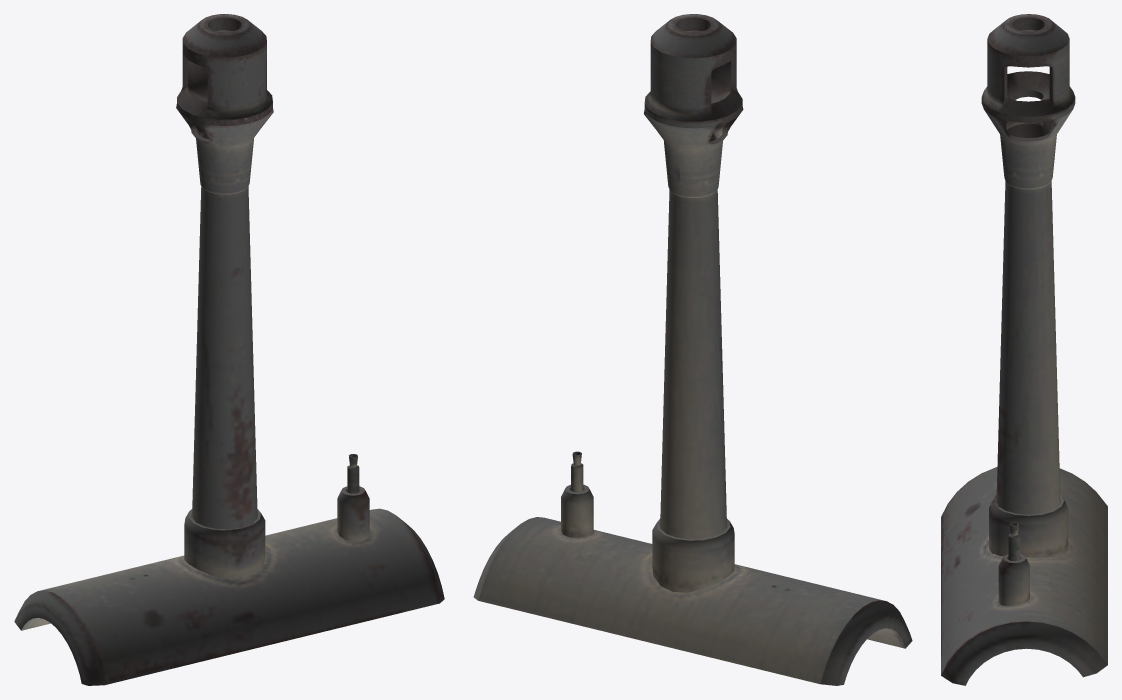
The model's file is Gun_08.glb.
3 renders of one model, left to right at view 1: azimuth 30°, elevation 25°; view 2: azimuth 150°, elevation 25°; view 3: azimuth 270°, elevation 25°, orthographic. The views are drawn at different scales.
Visible parts, largest first — view 1: set_0_group_0; view 2: set_0_group_0; view 3: set_0_group_0.
Part boxes in pixels (left/top/right/bottom): set_0_group_0: left=14, top=14, right=444, bottom=685; set_0_group_0: left=473, top=14, right=912, bottom=685; set_0_group_0: left=941, top=14, right=1107, bottom=685.
Size of the model in its own units: 1.26 by 1.99 by 0.5237.
Materials: 1 (1 with a texture image).
